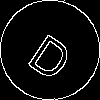D: (25, 25, 81, 83)
